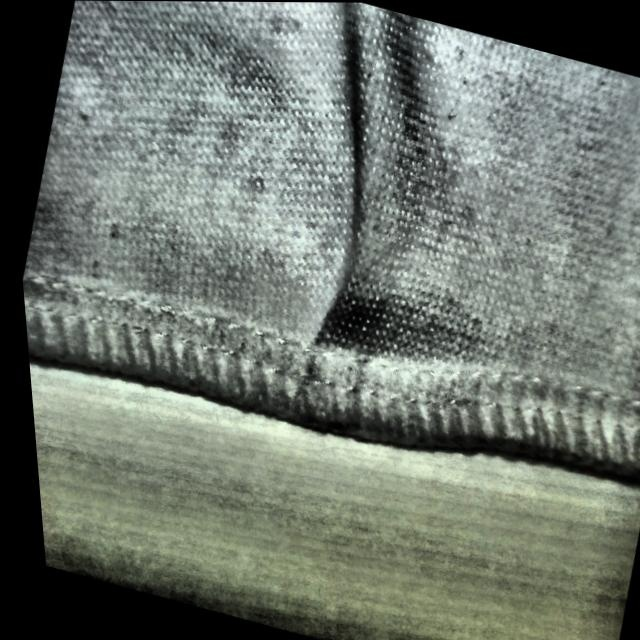seam: (235, 116, 476, 462)
